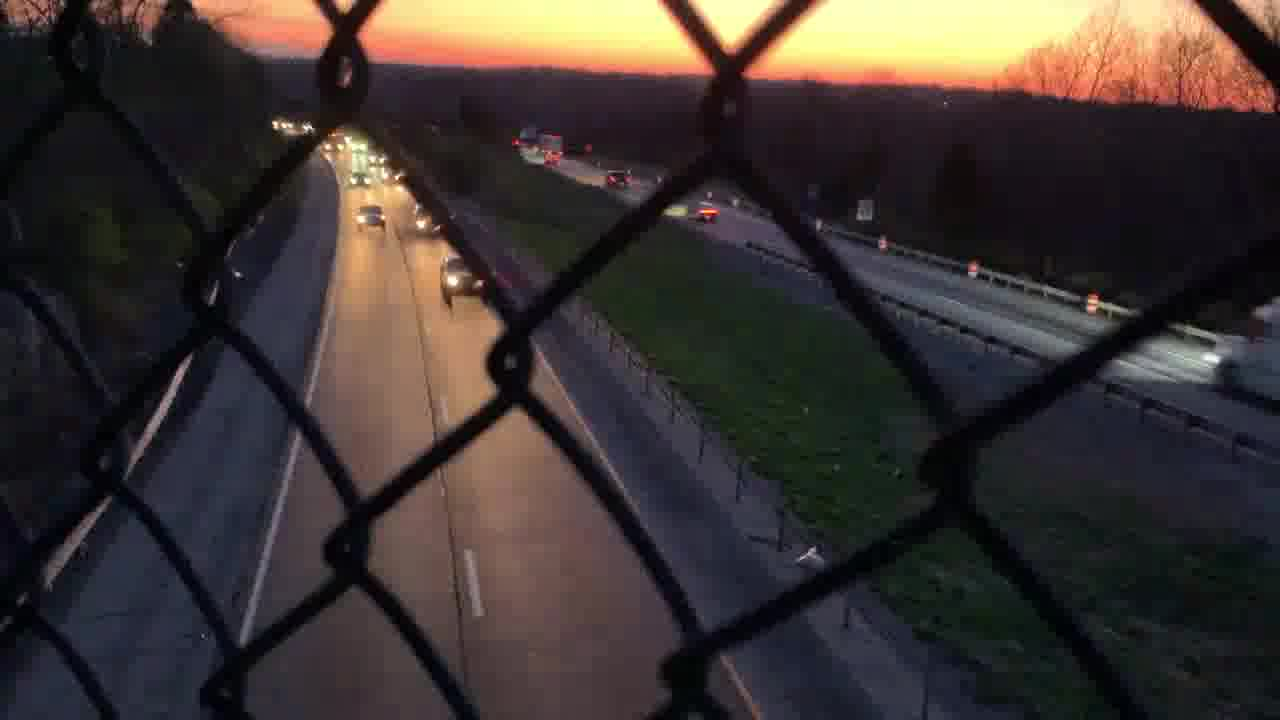largeCar: (438, 258, 491, 307), (351, 204, 389, 234)
